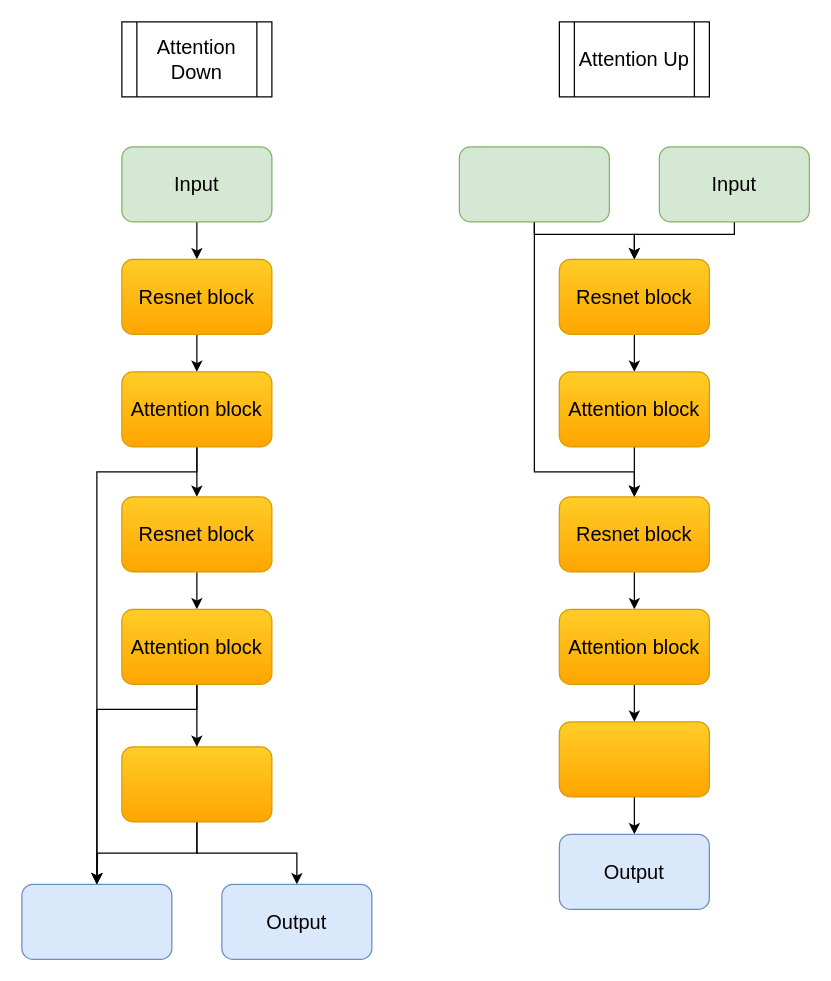
This 831x981 diagram has some shape labels left out. Each missing label, with the box of its shape:
Downsample: (121, 746, 272, 822)
Input states: (458, 146, 609, 222)
Output states: (21, 883, 172, 959)
Upsample: (558, 721, 709, 797)
